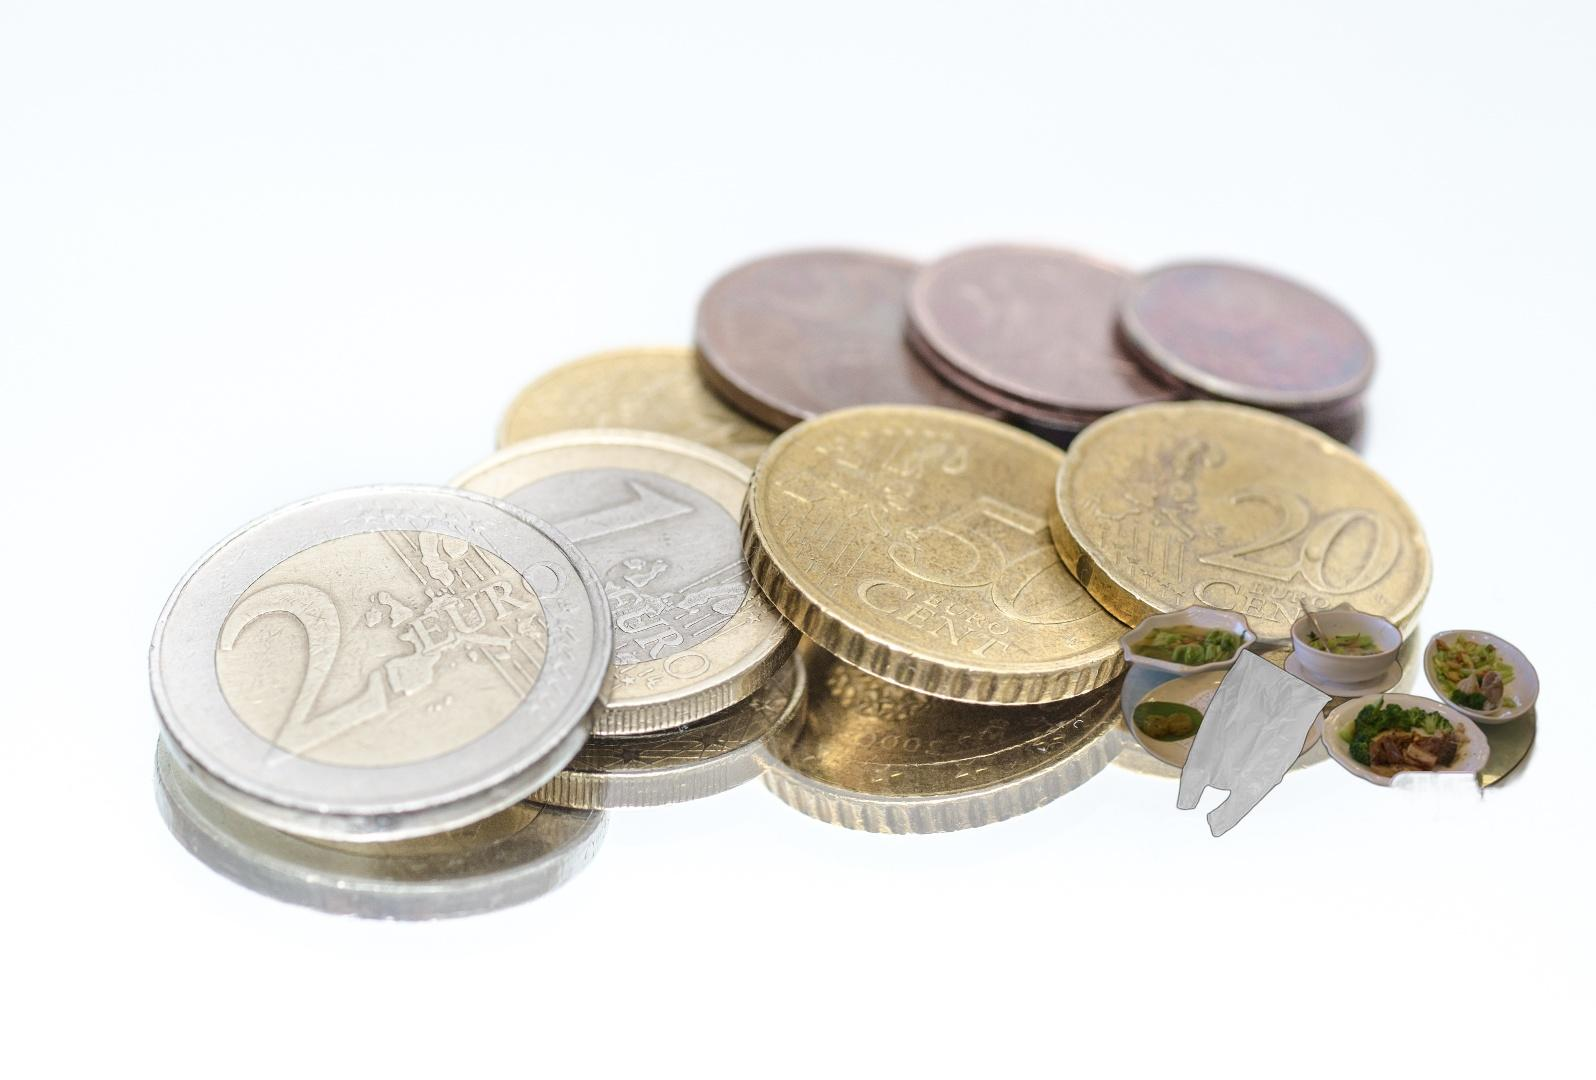biological: (1111, 589, 1556, 829)
plastic-bag: (1174, 645, 1336, 840)
